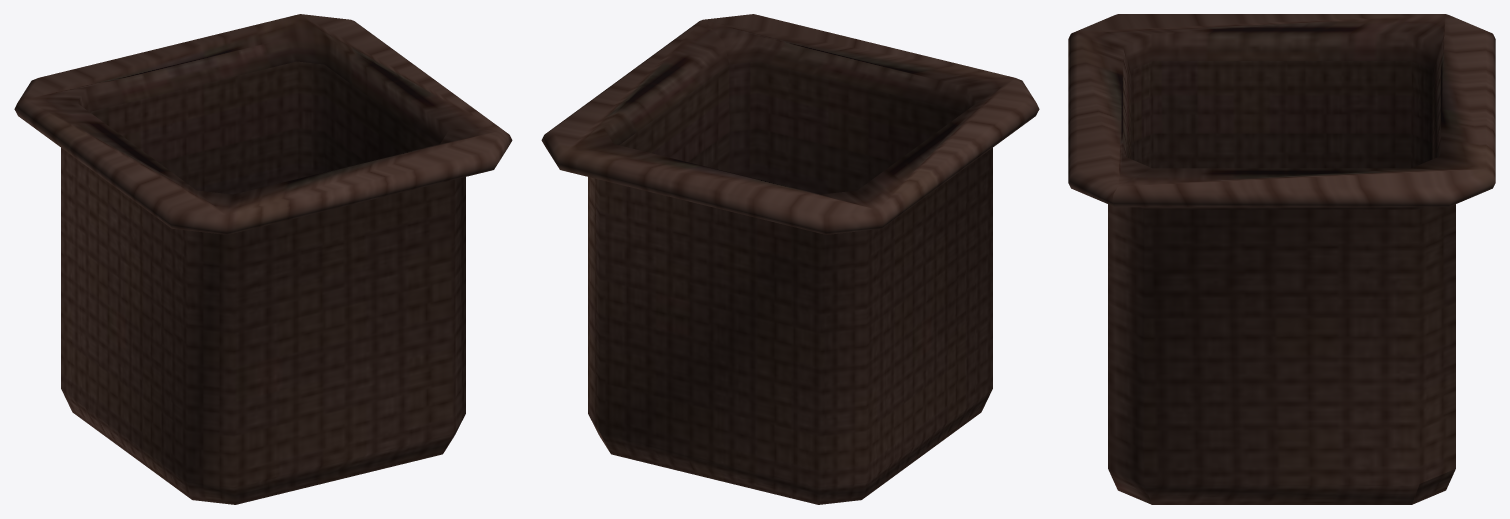
The model's file is mdl_franch_balloon_basket.gltf.
3 views of the same model, side by side, from view 1: azimuth 30°, elevation 25°; view 2: azimuth 150°, elevation 25°; view 3: azimuth 270°, elevation 25° (orthographic). The views are drawn at different scales.
Parts seen in each view (by area): view 1: balloon_basket; view 2: balloon_basket; view 3: balloon_basket.
Part boxes in pixels (box(x1,y1,x2,y2)): balloon_basket: box(14, 14, 512, 504); balloon_basket: box(541, 14, 1039, 504); balloon_basket: box(1068, 14, 1495, 504).
Bounding box in the file's own units: 1.3 × 1.12 × 1.3.
1 material, 1 textured.
